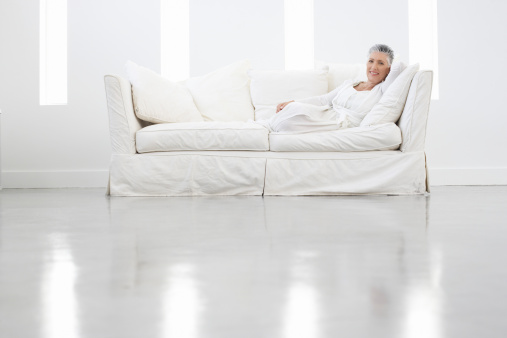deitado: (308, 28, 430, 169)
